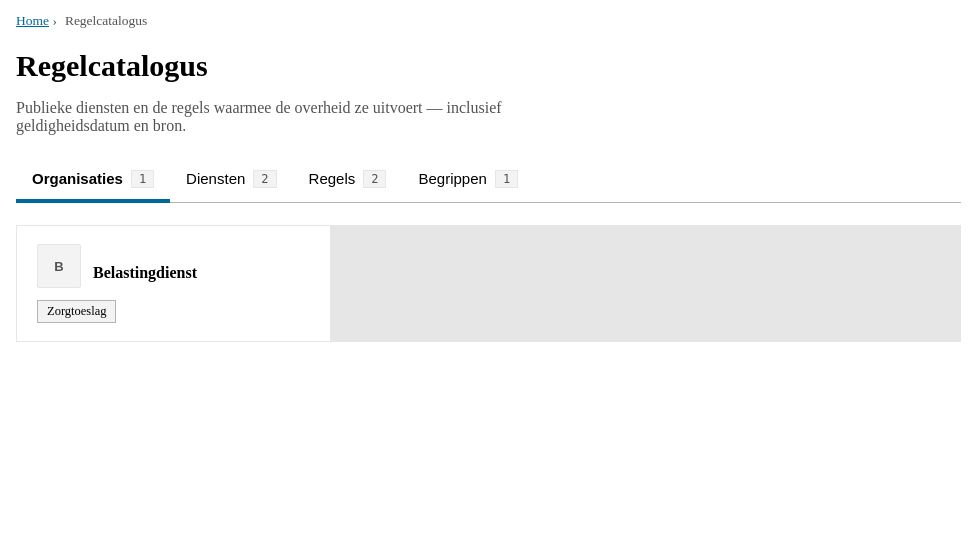
Test: Regelcatalogus › Diensten tab lists every service, including one with no rules
Click the tab "Diensten 2". click: (231, 181)
box: left=170, top=159, right=292, bottom=203
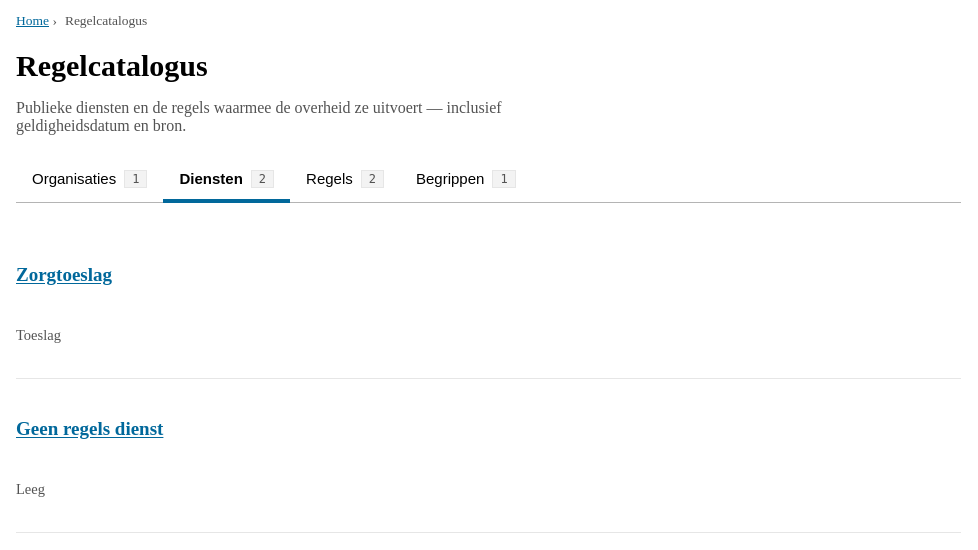
Expected: the link "Zorgtoeslag" is shown, left=16, top=264, right=112, bottom=285
Result: the link "Geen regels dienst" is shown at left=16, top=418, right=163, bottom=439
